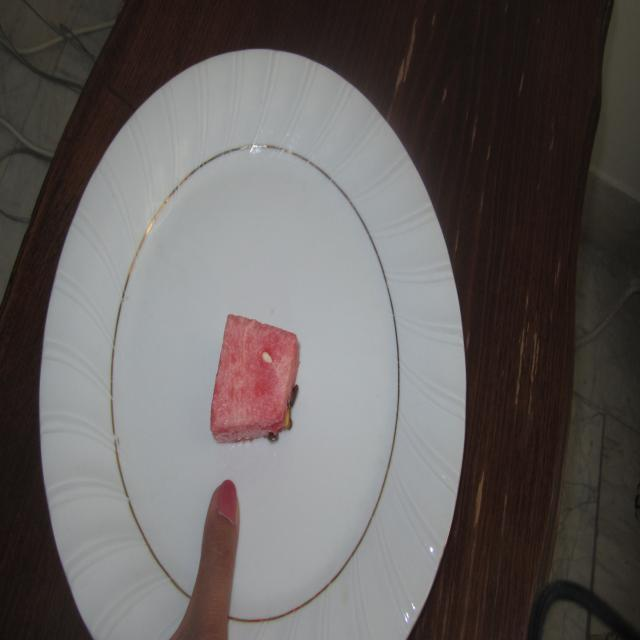Watermelon: (198, 308, 335, 468)
